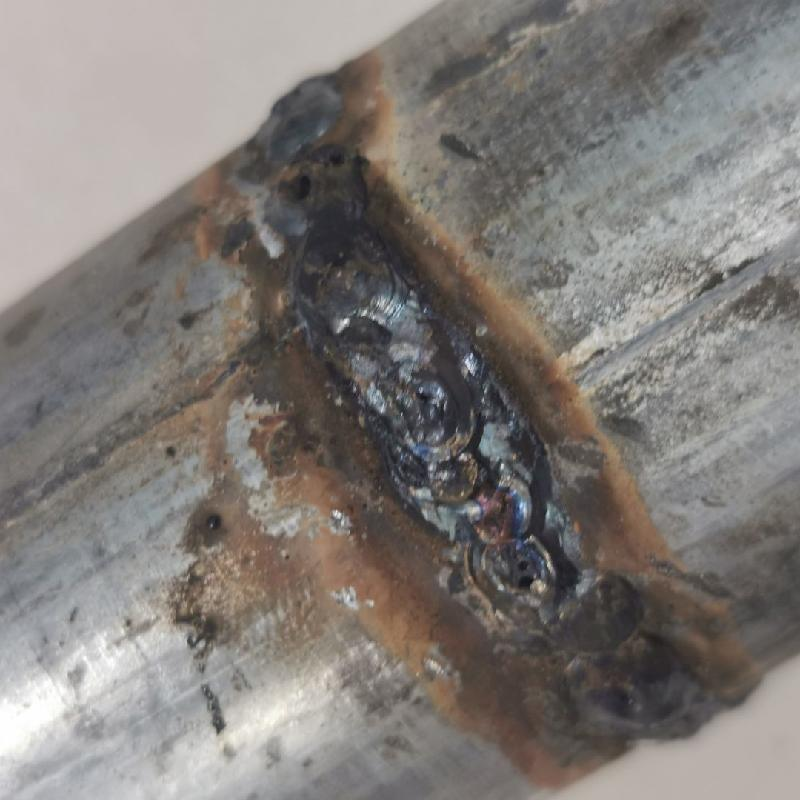Surface_pores: (279, 146, 354, 206), (599, 679, 649, 718), (506, 557, 550, 601)
crater: (380, 372, 551, 621)
wrong_size: (548, 590, 726, 746)
